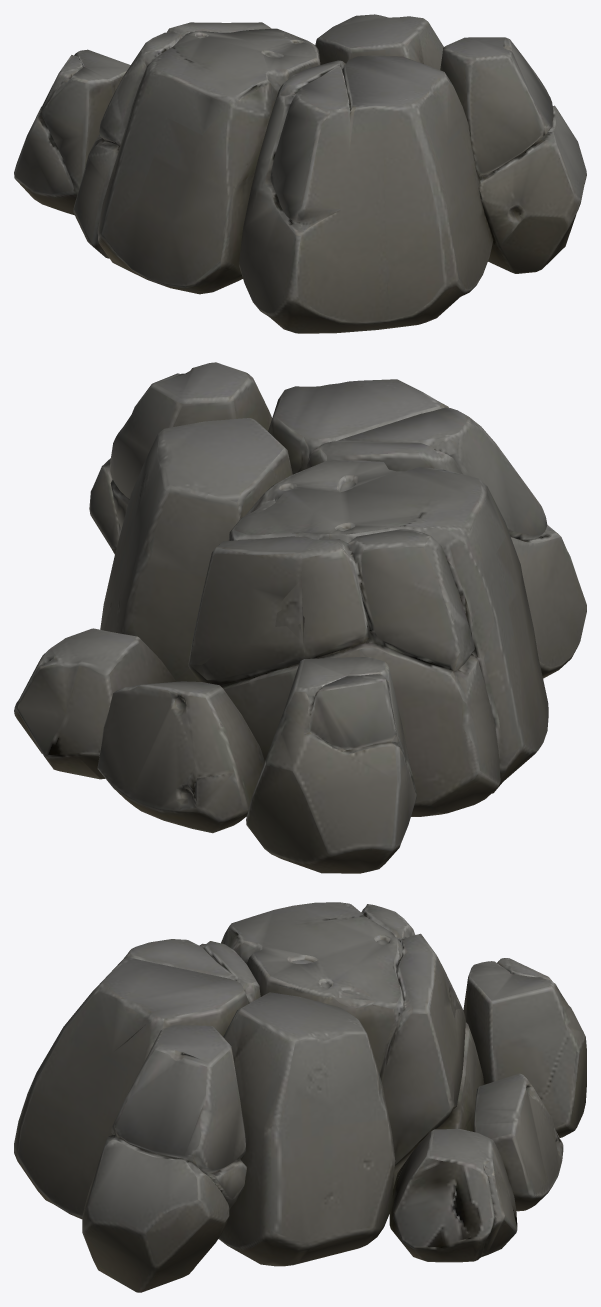
File: rock-pile.glb
3 renders of one model, top to bottom at view 1: azimuth 30°, elevation 25°; view 2: azimuth 150°, elevation 25°; view 3: azimuth 270°, elevation 25°, orthographic. The views are drawn at different scales.
Visible parts, largest first — view 1: tripo_node_a4d2cad7-2dda-4209-9617-5a16a404446f; view 2: tripo_node_a4d2cad7-2dda-4209-9617-5a16a404446f; view 3: tripo_node_a4d2cad7-2dda-4209-9617-5a16a404446f.
Boxes of the visible parts, x1,y1,x2,y2 form: tripo_node_a4d2cad7-2dda-4209-9617-5a16a404446f: [14, 14, 586, 333]; tripo_node_a4d2cad7-2dda-4209-9617-5a16a404446f: [14, 362, 586, 873]; tripo_node_a4d2cad7-2dda-4209-9617-5a16a404446f: [14, 902, 586, 1292].
Size of the model in its own units: 0.8965 by 0.4316 by 0.998.
Materials: 1 (1 with a texture image).
